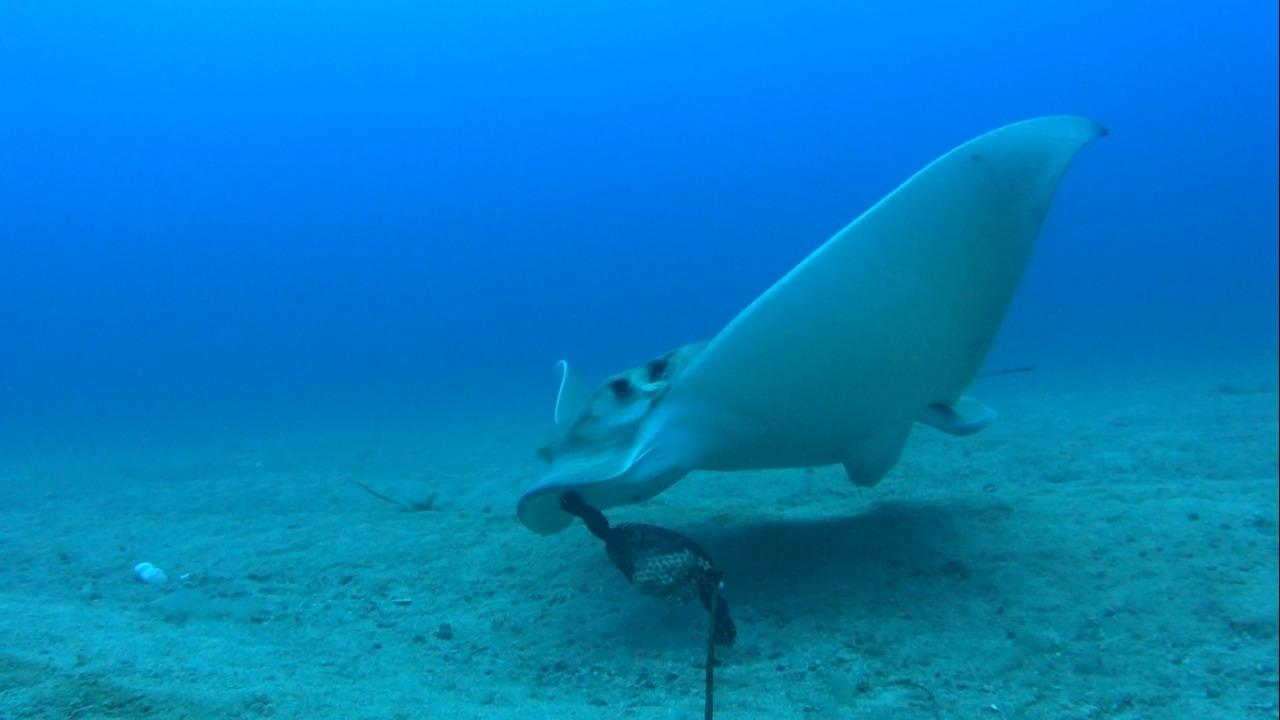myliobatis: (508, 100, 1111, 551)
